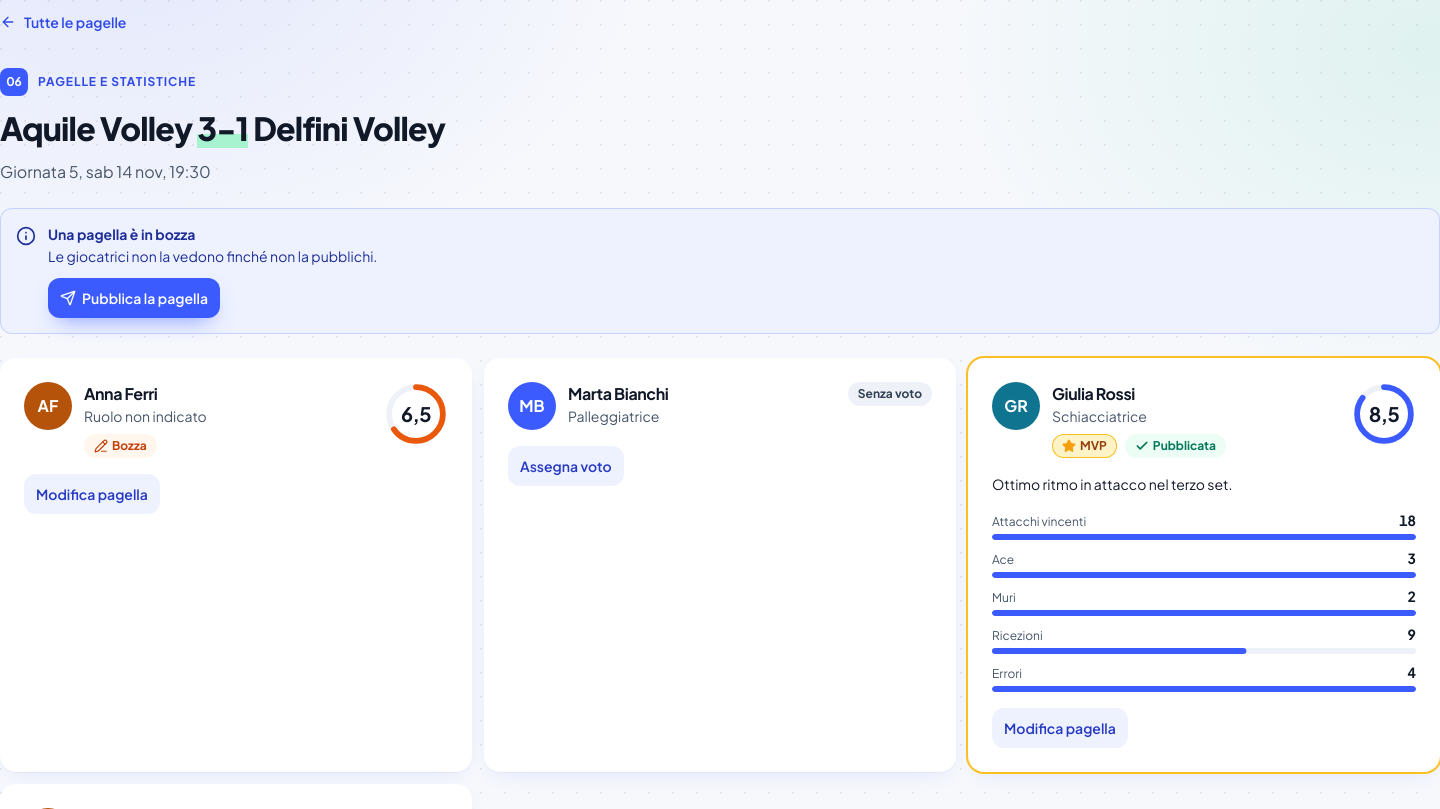
Test: MatchReportView as the coach › rates a player: validates the grade, then saves rating and notes
Click the button with aria-label "Assegna voto a Marta Bianchi" at coordinates (566, 466), box [508,446,624,486]
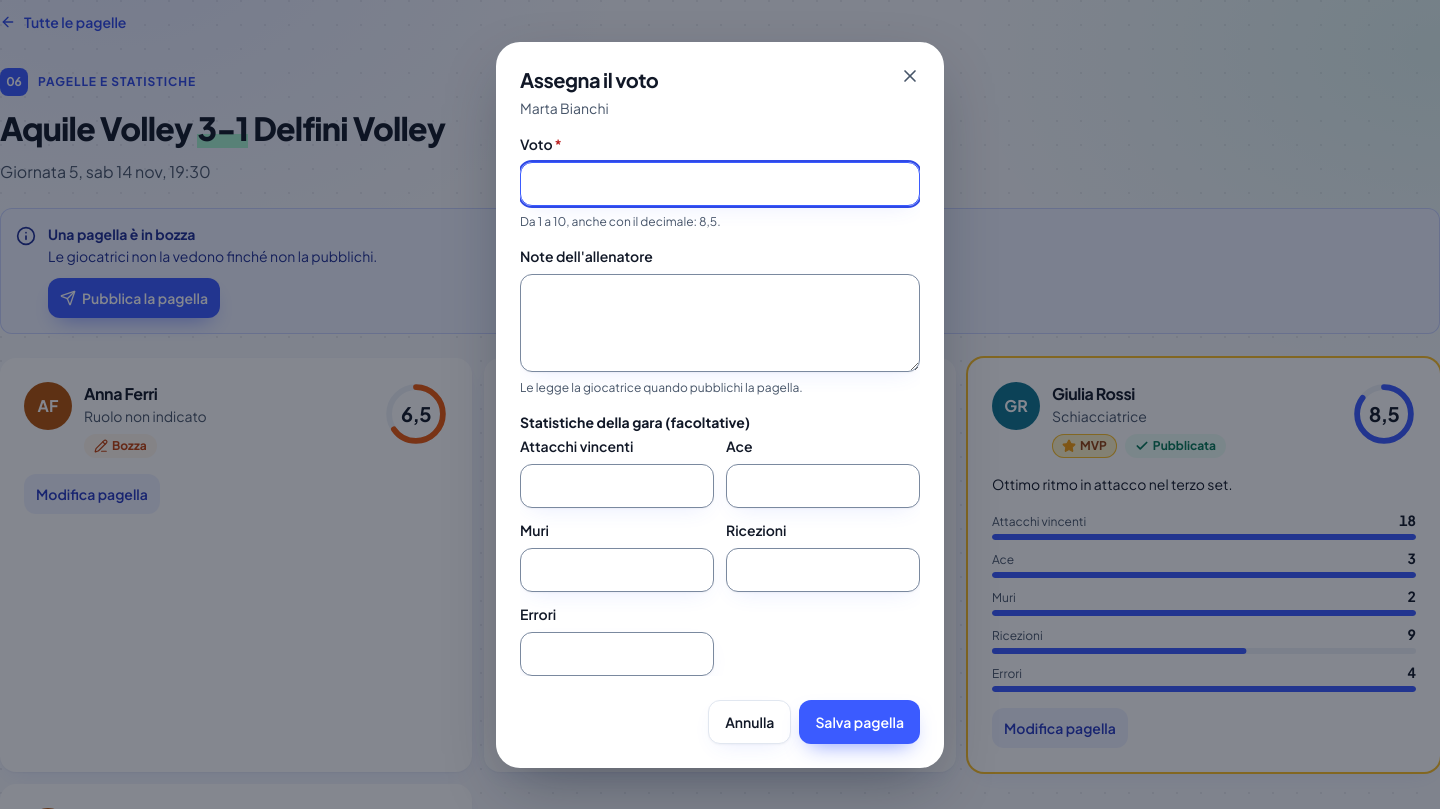
Type "11" into the field labelled "Voto*" at coordinates (720, 184), box [520,162,920,206]
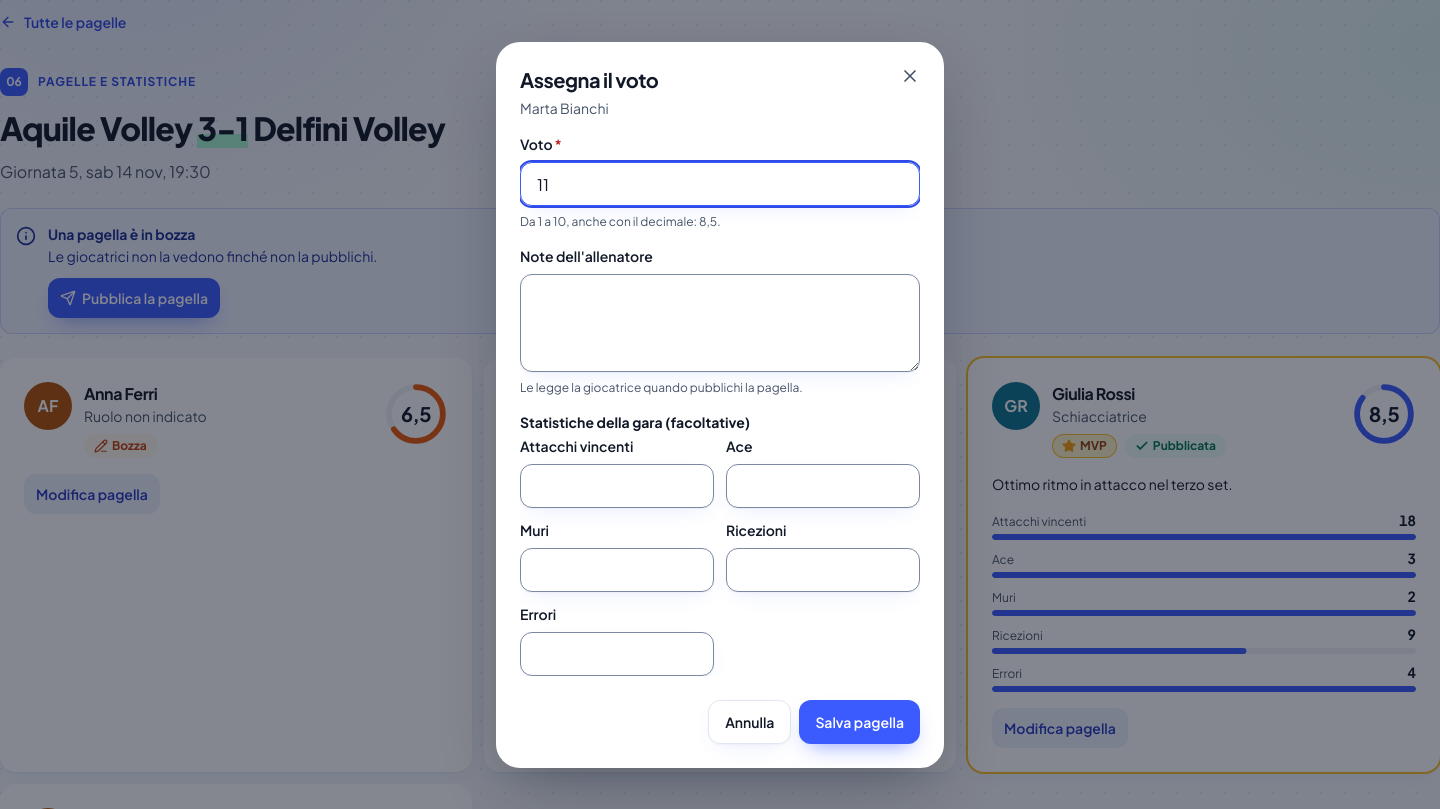
Click the button "Salva pagella" at coordinates (860, 722), box [799,700,920,744]
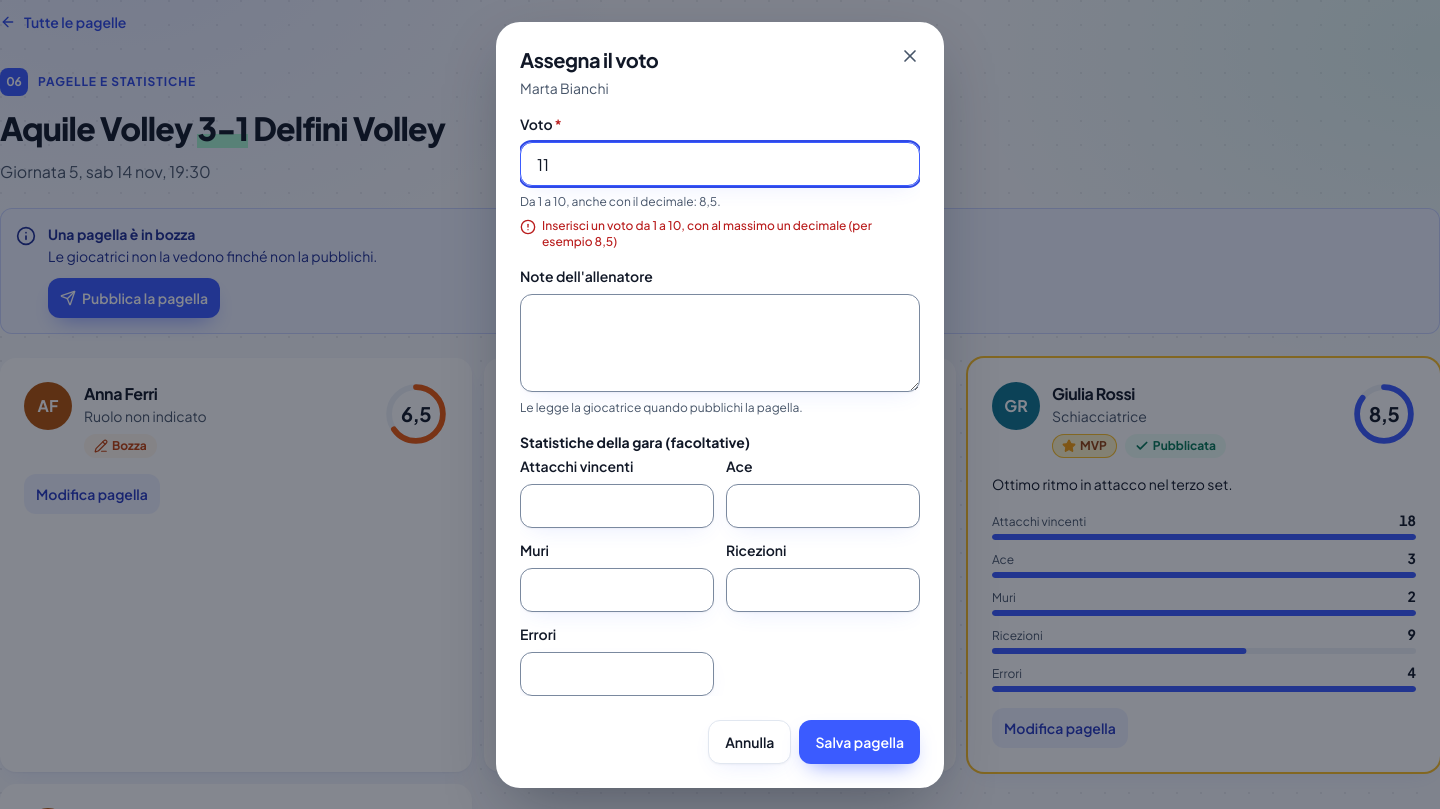
Result: the text "Inserisci un voto da 1 a 10" is shown at [542,218,872,249]
Replace the text in the field labelled "Voto*" with "8,5" at coordinates (720, 164), box [520,142,920,186]
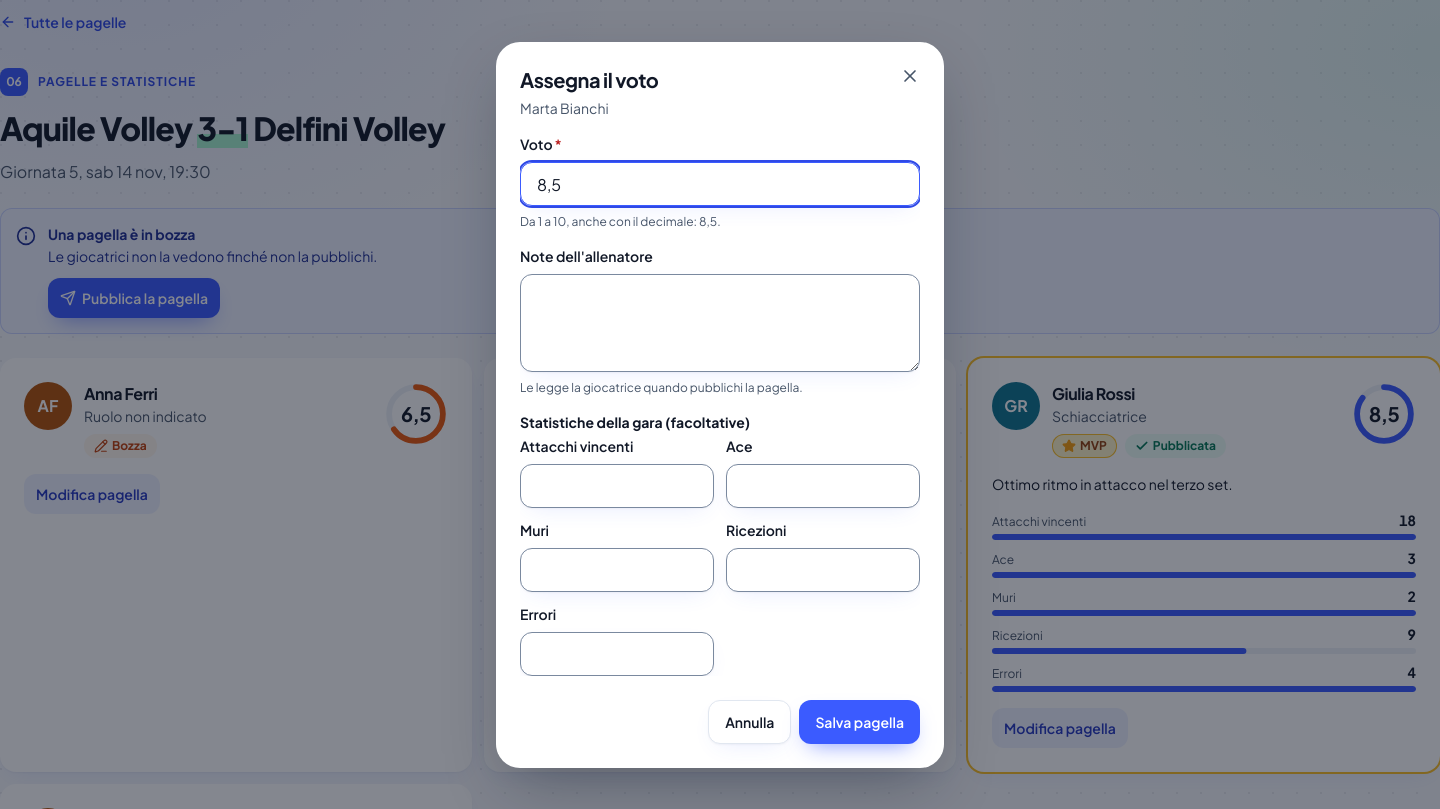
Type "Alzata precisa." into the text box labelled "Note dell'allenatore" at coordinates (720, 323), box [520,274,920,372]
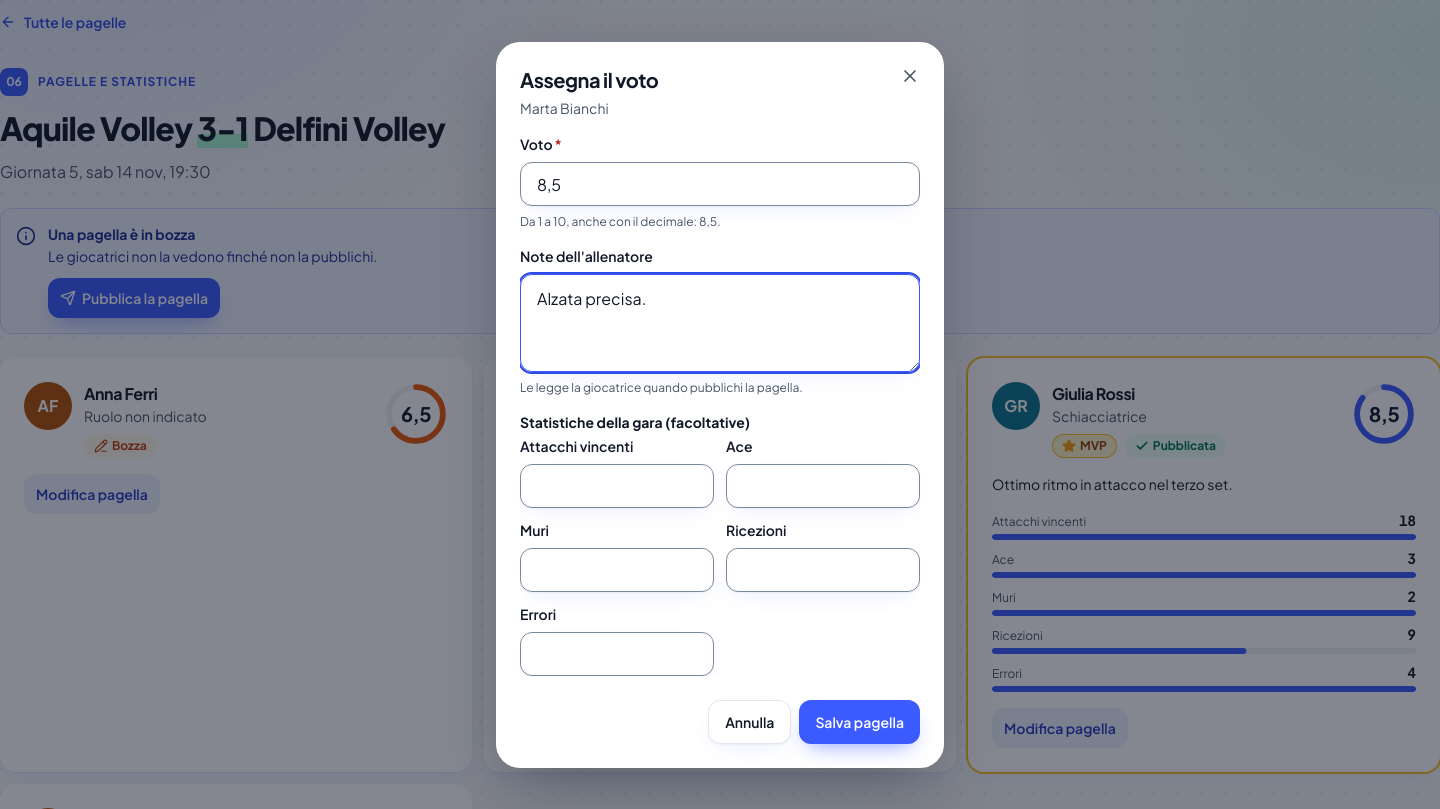
Click the button "Salva pagella" at coordinates (860, 722), box [799,700,920,744]
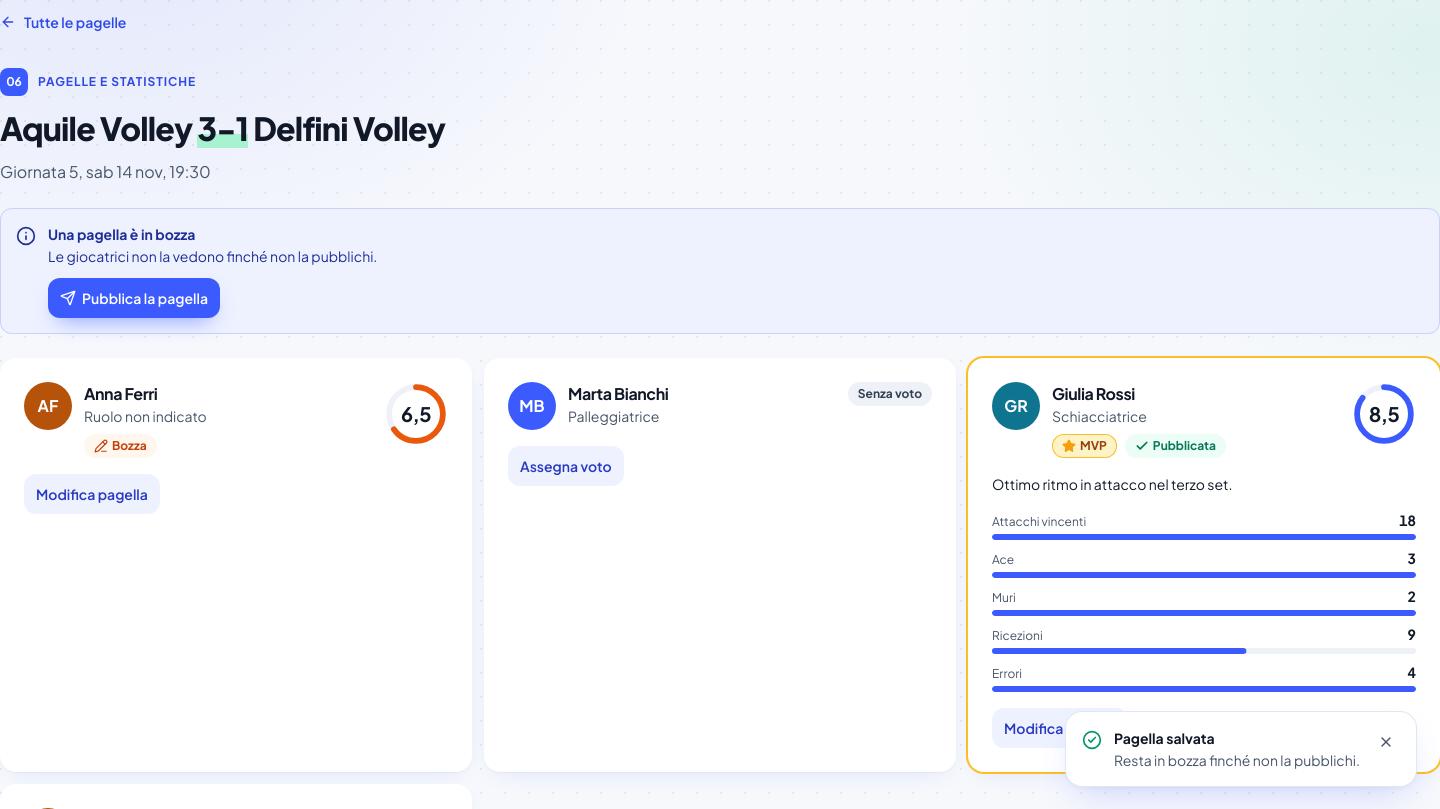
Result: the text "Pagella salvata" is shown at [1114,729,1215,747]
